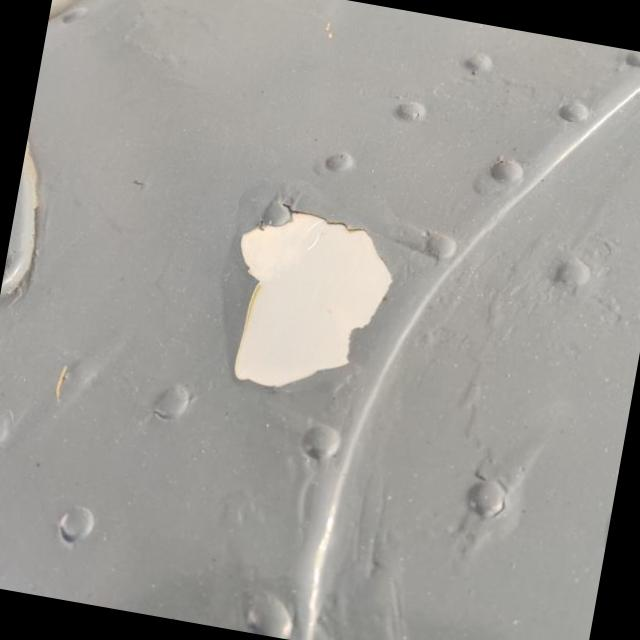Paint-off: (233, 212, 391, 387)
